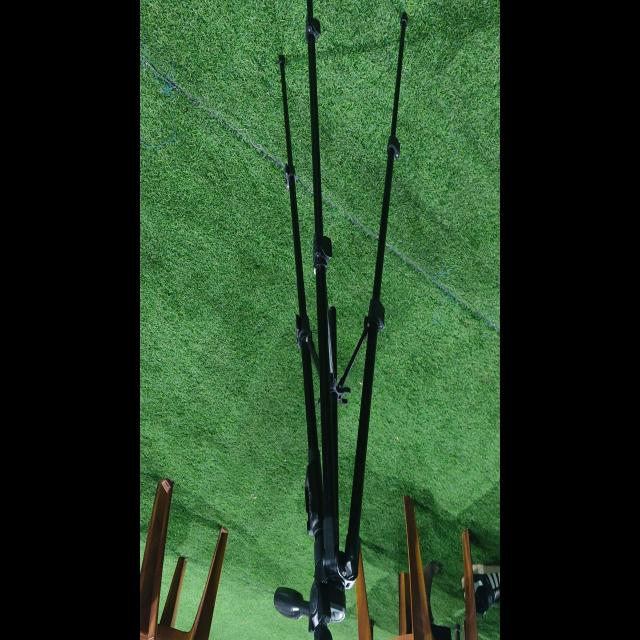Camer Stand: (272, 2, 408, 636)
Chair: (139, 478, 228, 639)
